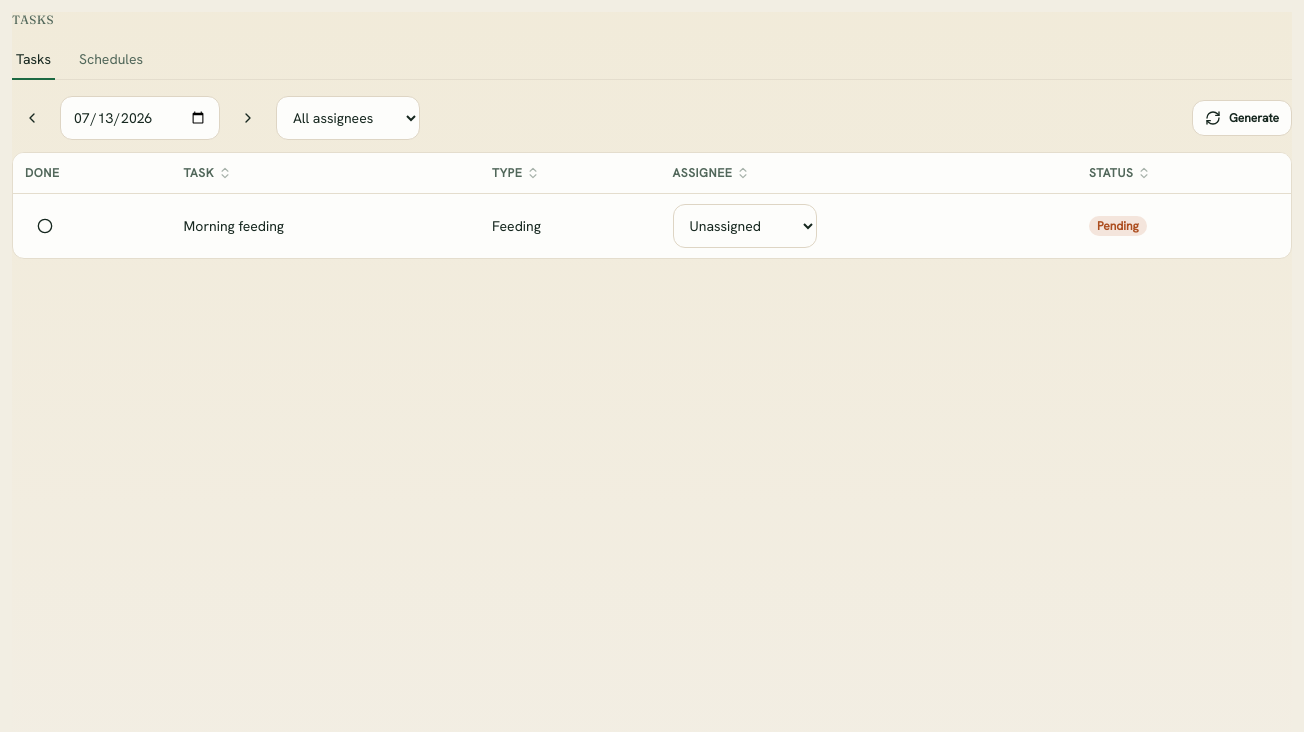
Test: TasksPanel assignee (slice 11.9) › assigns a task to a worker via the row picker (PATCH { workerId })
The image size is (1304, 732).
Expected: the text "Morning feeding" is shown, [184,216,284,234]
Select "Ravi" in the dropdown named "Assign \"Morning feeding\" to a worker". click: (745, 226)
box: [673,204,817,248]
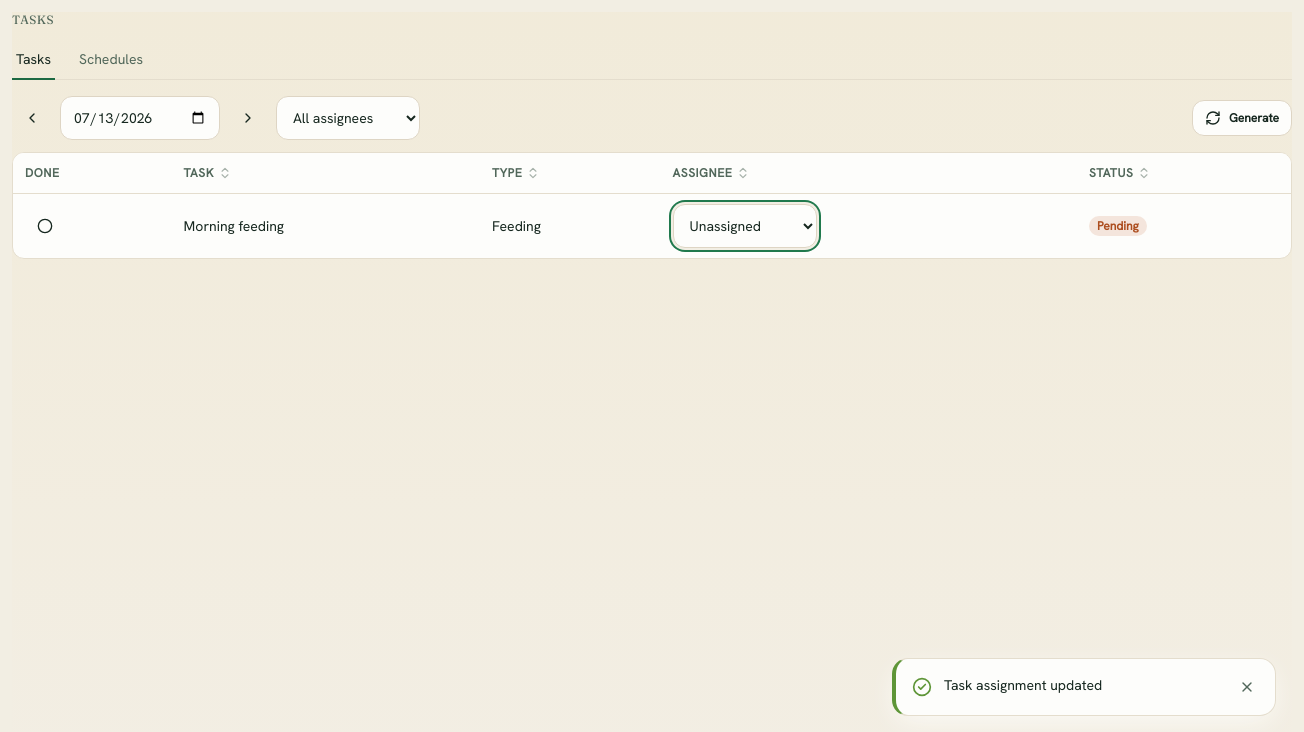
Result: the text "Task assignment updated" is shown at [944,676,1102,694]
